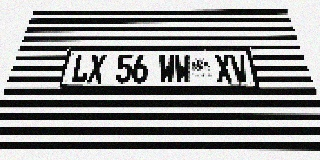5: (115, 55, 133, 83)
6: (132, 54, 148, 83)
L: (70, 55, 91, 83)
V: (229, 54, 250, 83)
W: (174, 54, 191, 83), (159, 54, 175, 83)
X: (214, 54, 234, 83), (87, 55, 106, 83)
